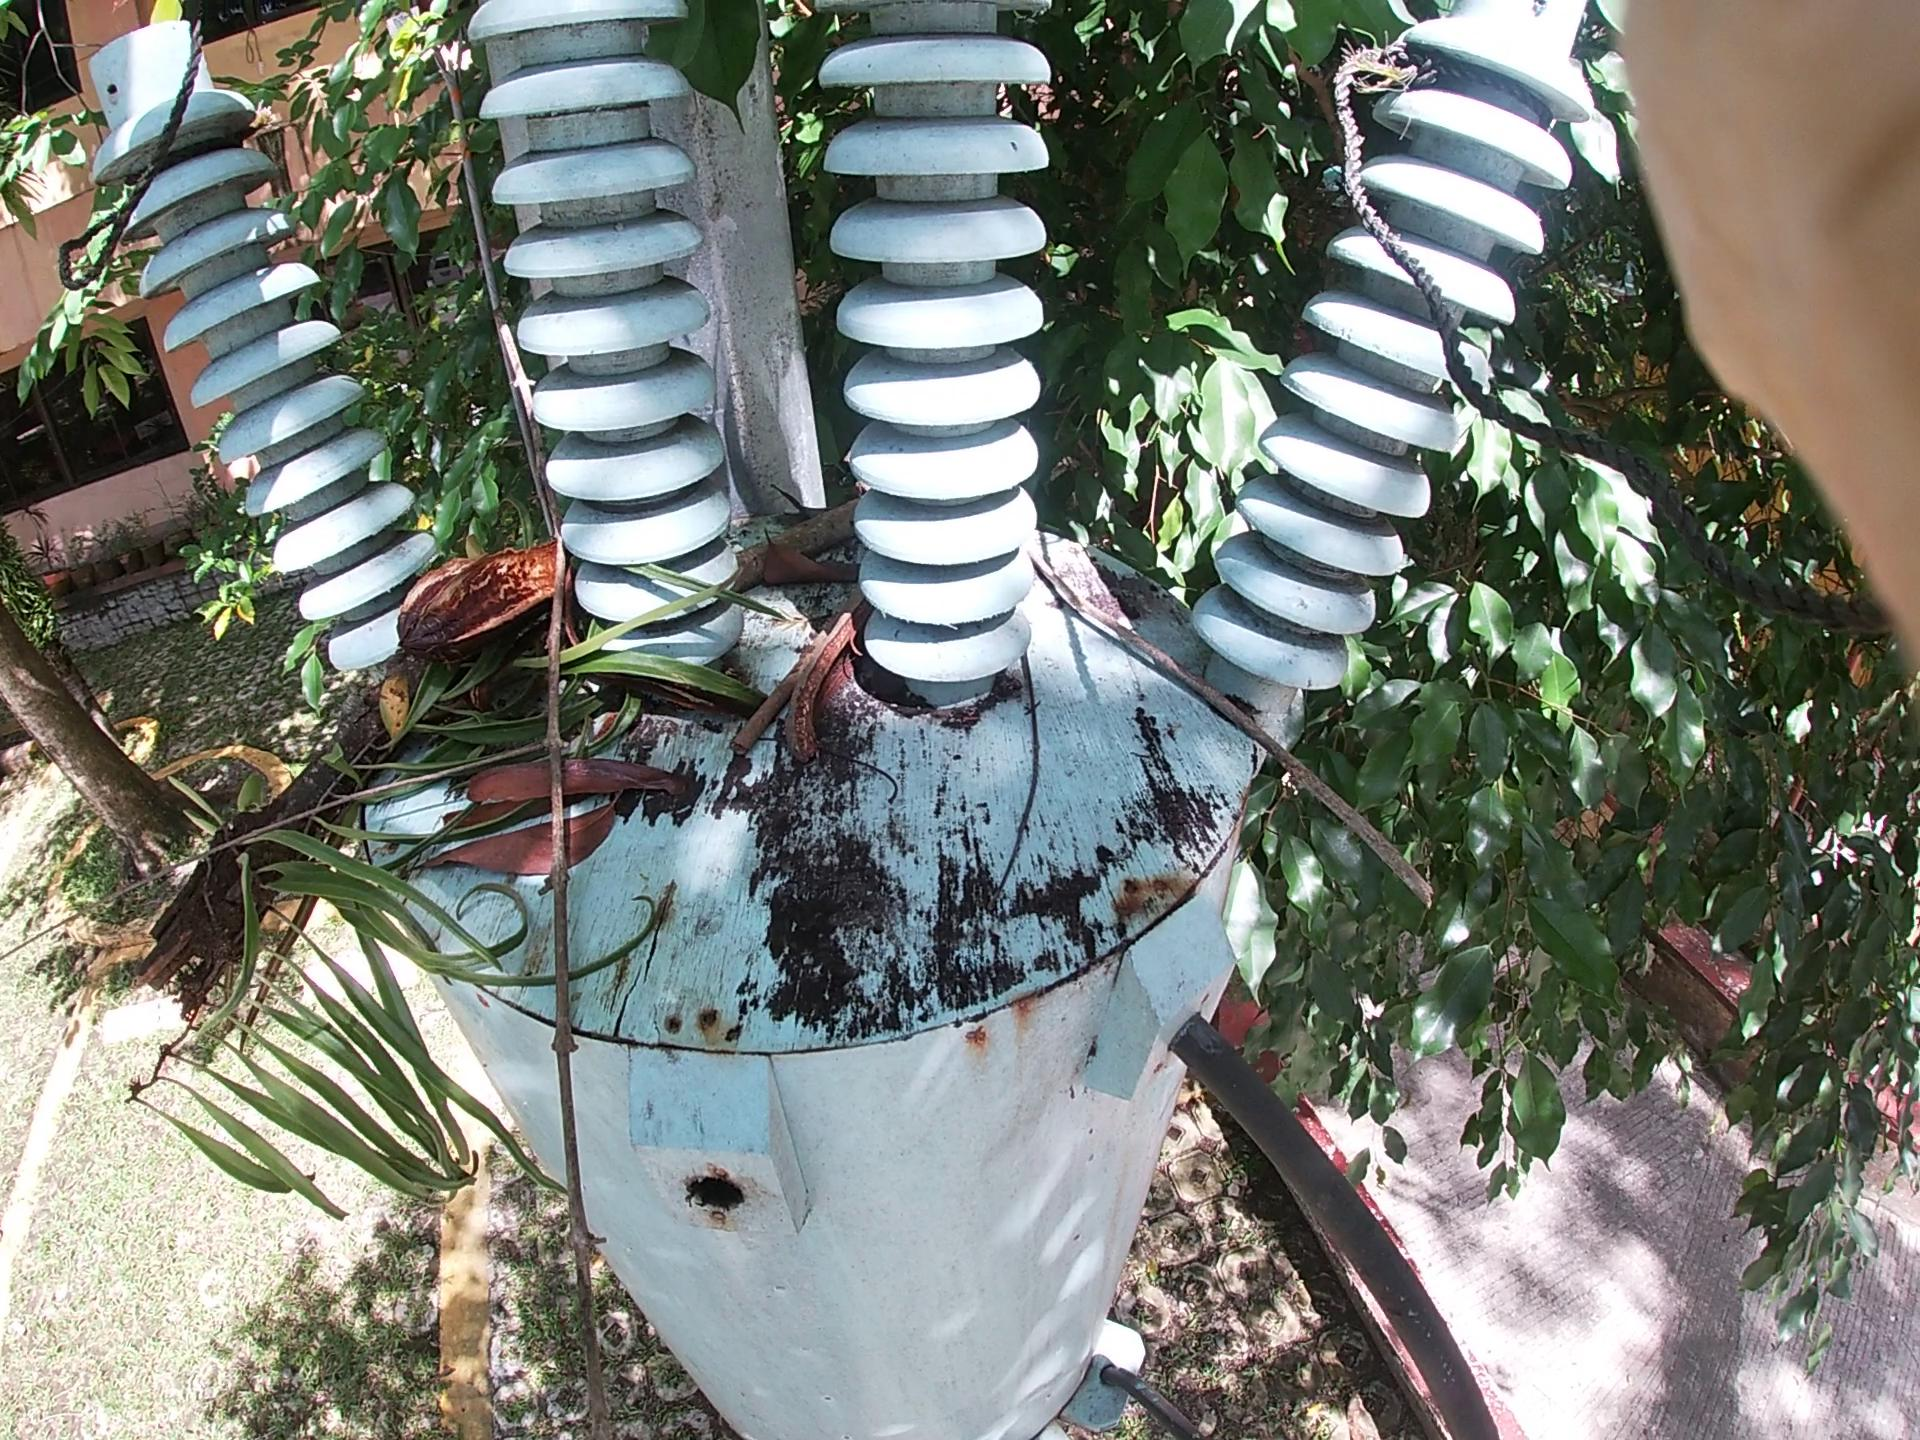branch with leaves: (65, 473, 540, 1060)
leaf: (292, 591, 552, 873), (768, 461, 850, 672)
mahogany fruit: (364, 445, 605, 659), (742, 554, 854, 787)
tree branch: (999, 469, 1770, 1141), (514, 507, 677, 1357), (720, 442, 1079, 781)
